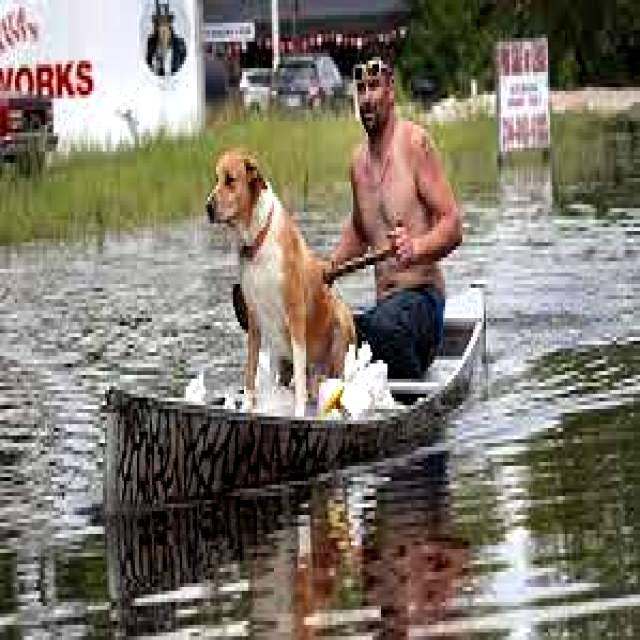civilian: (321, 44, 470, 389)
dog: (192, 142, 367, 424)
